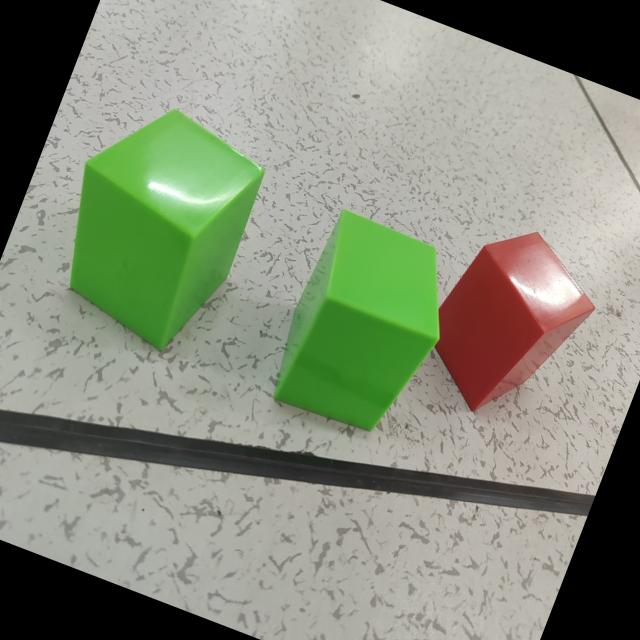green: (67, 110, 264, 352), (272, 210, 440, 434)
red: (434, 233, 595, 413)
